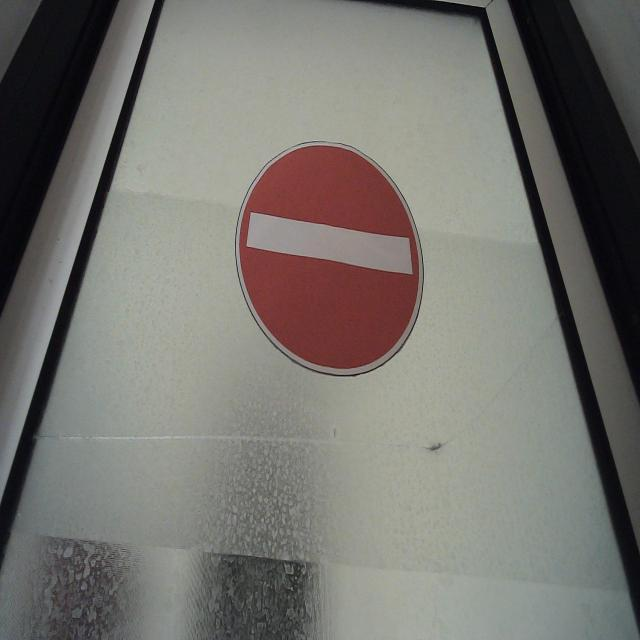no_entry: (234, 138, 426, 382)
